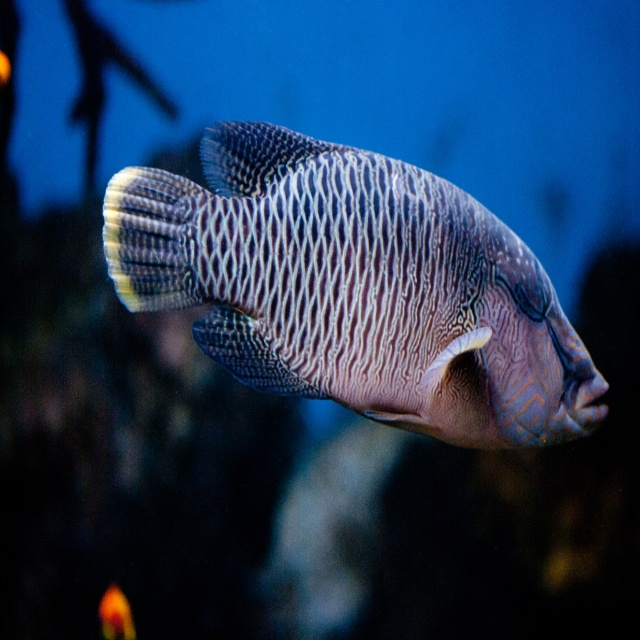Fish: (102, 101, 594, 459)
